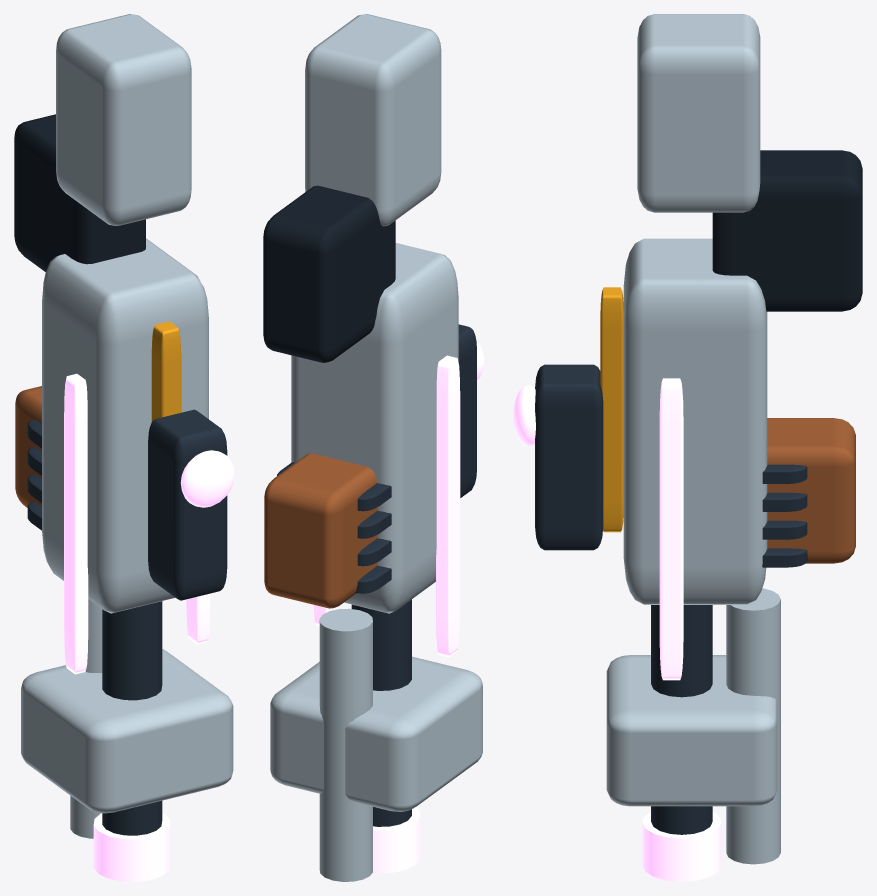
File: shotgun-7.glb
3 renders of one model, left to right at view 1: azimuth 30°, elevation 25°; view 2: azimuth 150°, elevation 25°; view 3: azimuth 270°, elevation 25°, orthographic.
Bounding box in the file's own units: 0.2762 × 1.49 × 0.5658.
